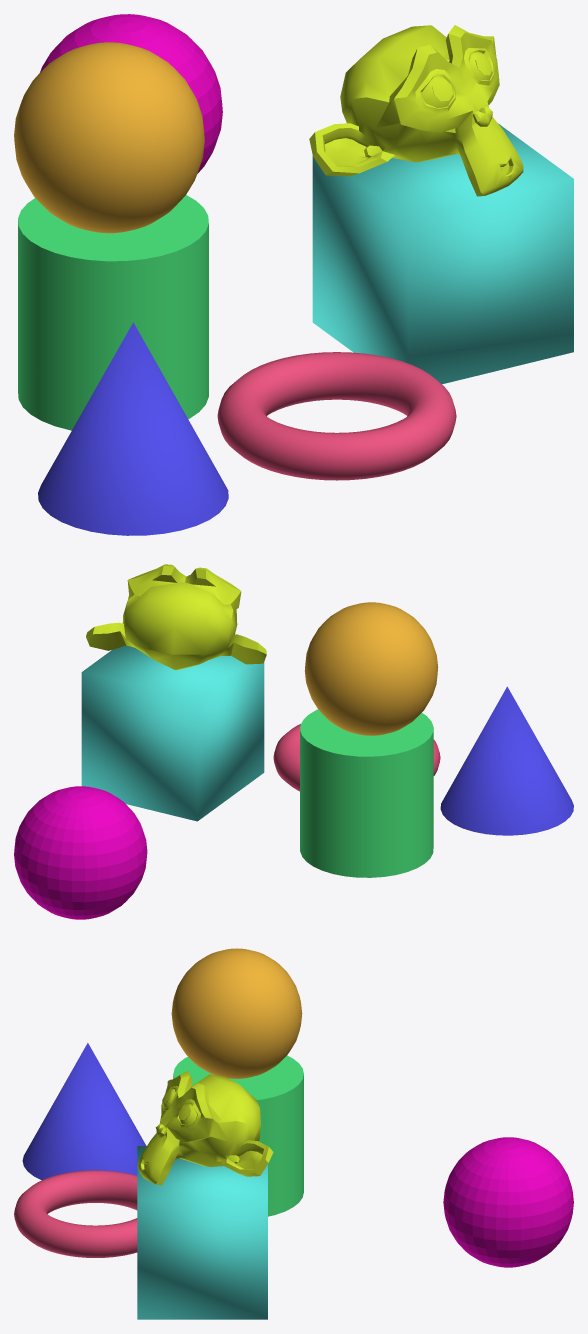
The picture shows the model from 3 angles, top to bottom: view 1: azimuth 30°, elevation 25°; view 2: azimuth 150°, elevation 25°; view 3: azimuth 270°, elevation 25°; orthographic projection. The views are drawn at different scales.
Visible parts, largest first — view 1: Cube, Cylinder, Sphere, Cone, Suzanne, Torus, Sphere.001; view 2: Cube, Cylinder, Sphere.001, Sphere, Suzanne, Cone, Torus; view 3: Cube, Sphere.001, Sphere, Suzanne, Cone, Torus, Cylinder.
Boxes of the visible parts, x1,y1,x2,y2 form: Cube: (312,123,573,384); Cylinder: (18,195,208,430); Sphere: (14,42,204,233); Cone: (38,322,228,535); Suzanne: (309,25,523,196); Torus: (217,352,456,480); Sphere.001: (40,14,222,173); Cube: (81,645,264,821); Cylinder: (300,709,433,877); Sphere.001: (14,786,147,919); Sphere: (304,602,438,735); Suzanne: (86,564,266,670); Cone: (440,686,573,835); Torus: (273,724,440,791); Cube: (137,1146,267,1319); Sphere.001: (443,1137,573,1267); Sphere: (171,948,302,1078); Suzanne: (137,1071,273,1185); Cone: (22,1043,146,1180); Torus: (14,1170,137,1257); Cylinder: (173,1055,303,1216).
Size of what is drawn, in the model's own units: 6.76 by 3.99 by 8.57.
